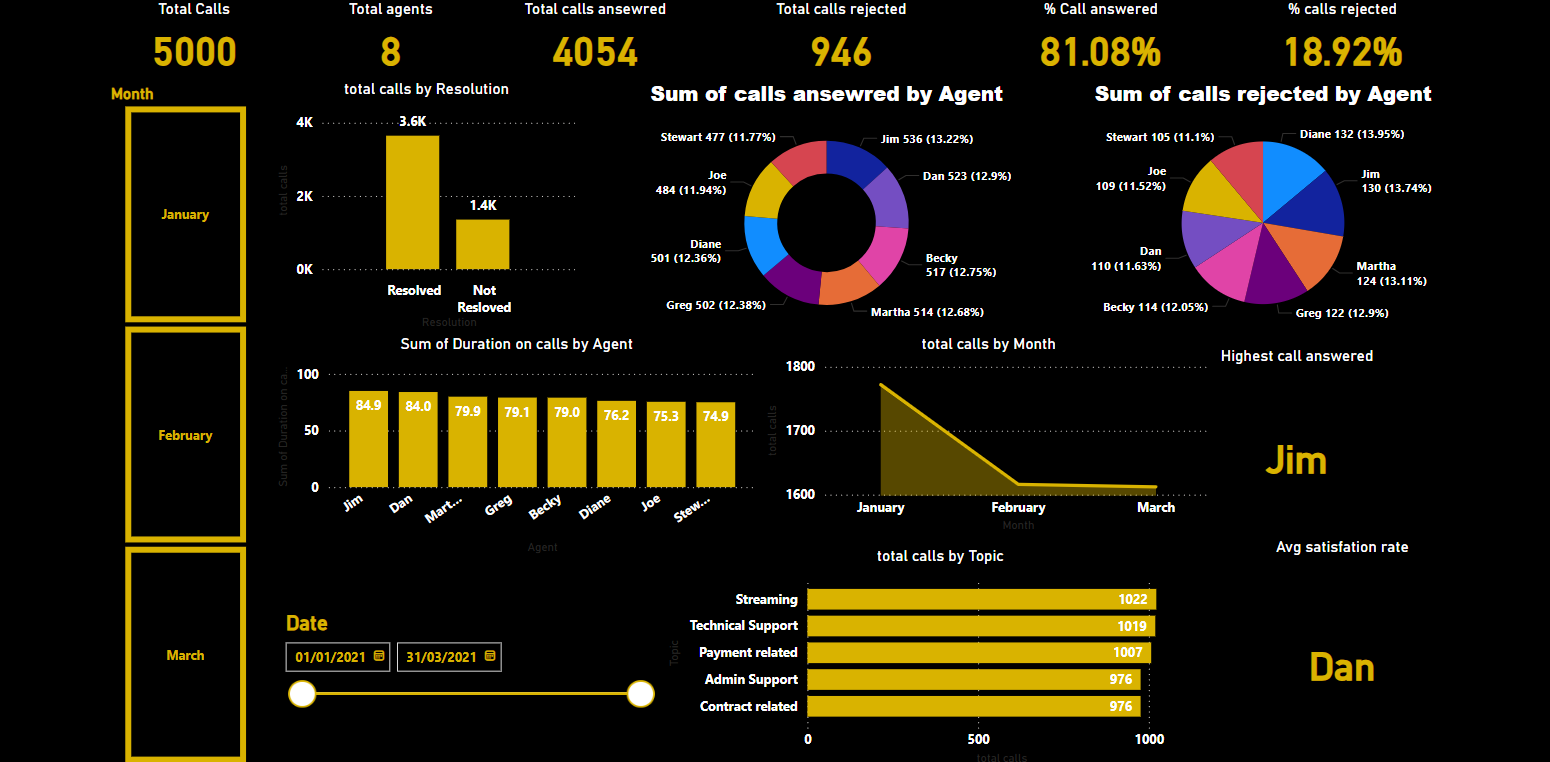

Layout of this report page (visuals, bound fields, positions):
{"tool":"powerbi","page":{"name":"Page 1","canvas":[1280,720],"ordinal":0},"visuals":[{"type":"card","title":"Total Calls","fields":{"Values":["Call Center Performance.total calls"]},"box":[0,0,181.4,74.3],"z":0},{"type":"card","title":"Total calls ansewred","fields":{"Values":["Sum(Call Center Performance.calls ansewred)"]},"box":[368.6,0,192.9,74.3],"z":1000},{"type":"card","title":"Total agents ","fields":{"Values":["Count(Call Center Performance.Agent)"]},"box":[181.4,0,187.1,74.3],"z":2000},{"type":"card","title":"Total  calls rejected","fields":{"Values":["Sum(Call Center Performance.calls rejected)"]},"box":[561.4,0,267.1,74.3],"z":3000},{"type":"card","title":"%  calls rejected","fields":{"Values":["Call Center Performance.% calls rejected"]},"box":[1045.7,0,234.3,74.3],"z":4000},{"type":"card","title":"% Call answered","fields":{"Values":["Call Center Performance.% calls answered"]},"box":[828.6,0,217.1,74.3],"z":5000},{"type":"columnChart","fields":{"Y":["Call Center Performance.total calls"],"Category":["Call Center Performance.Resolution"]},"box":[162.9,74.3,288.6,238.6],"z":6000},{"type":"card","title":"Highest call answered","fields":{"Values":["Min(Call Center Performance.Agent)"]},"box":[995.7,324.3,250,187.1],"z":7000},{"type":"card","title":"Avg satisfation rate","fields":{"Values":["Min(Call Center Performance.Agent)"]},"box":[1045.7,502.9,234.3,217.1],"z":8000},{"type":"barChart","fields":{"Category":["Call Center Performance.Topic"],"Y":["Call Center Performance.total calls"]},"box":[528.6,511.4,517.1,208.6],"z":9000},{"type":"columnChart","fields":{"Category":["Call Center Performance.Agent"],"Y":["Sum(Call Center Performance.Duration on calls)"]},"box":[162.9,312.9,457.1,210],"z":10000},{"type":"areaChart","fields":{"Y":["Call Center Performance.total calls"],"Category":["Call Center Performance.Date.Variation.Date Hierarchy.Month"]},"box":[620,312.9,425.7,190],"z":11000},{"type":"slicer","fields":{"Values":["Call Center Performance.Date.Variation.Date Hierarchy.Month"]},"box":[0,74.3,162.9,645.7],"z":12000},{"type":"slicer","fields":{"Values":["Call Center Performance.Date"]},"box":[162.9,567.1,365.7,152.9],"z":13000},{"type":"donutChart","fields":{"Category":["Call Center Performance.Agent"],"Y":["Sum(Call Center Performance.calls ansewred)"]},"box":[465.7,74.3,431.4,238.6],"z":13001},{"type":"pieChart","fields":{"Category":["Call Center Performance.Agent"],"Y":["Sum(Call Center Performance.calls rejected)"]},"box":[897.1,74.3,382.9,238.6],"z":13002}]}

Visuals, with their boxes on the page's 1280x720 design canvas (x1, y1, x2, y2). These are canvas units, not pixel positions in the 1550x762 screenshot, which may show the page scaled, cropped or inside an application window:
"Total Calls" card: bbox(0, 0, 181, 74)
"Total calls ansewred" card: bbox(369, 0, 562, 74)
"Total agents " card: bbox(181, 0, 368, 74)
"Total  calls rejected" card: bbox(561, 0, 828, 74)
"%  calls rejected" card: bbox(1046, 0, 1280, 74)
"% Call answered" card: bbox(829, 0, 1046, 74)
columnChart - Call Center Performance.total calls x Call Center Performance.Resolution: bbox(163, 74, 452, 313)
"Highest call answered" card: bbox(996, 324, 1246, 511)
"Avg satisfation rate" card: bbox(1046, 503, 1280, 720)
barChart - Call Center Performance.Topic x Call Center Performance.total calls: bbox(529, 511, 1046, 720)
columnChart - Call Center Performance.Agent x Sum(Call Center Performance.Duration on calls): bbox(163, 313, 620, 523)
areaChart - Call Center Performance.total calls x Call Center Performance.Date.Variation.Date Hierarchy.Month: bbox(620, 313, 1046, 503)
slicer - Call Center Performance.Date.Variation.Date Hierarchy.Month: bbox(0, 74, 163, 720)
slicer - Call Center Performance.Date: bbox(163, 567, 529, 720)
donutChart - Call Center Performance.Agent x Sum(Call Center Performance.calls ansewred): bbox(466, 74, 897, 313)
pieChart - Call Center Performance.Agent x Sum(Call Center Performance.calls rejected): bbox(897, 74, 1280, 313)
